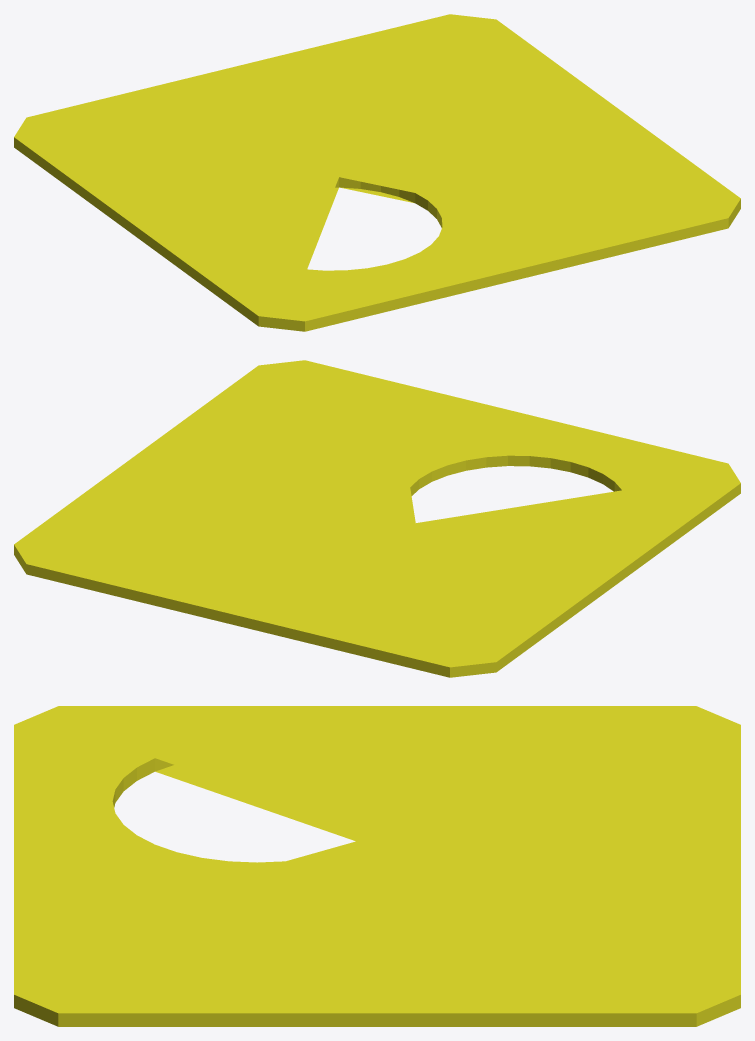
The model's file is cheese-sliced.fbx.
The picture shows the model from 3 angles, top to bottom: view 1: azimuth 30°, elevation 25°; view 2: azimuth 150°, elevation 25°; view 3: azimuth 270°, elevation 25°; orthographic projection. The views are drawn at different scales.
Parts seen in each view (by area): view 1: Plane; view 2: Plane; view 3: Plane.
Part boxes in pixels (<box>): Plane: <box>14,14,740,331</box>; Plane: <box>14,360,740,677</box>; Plane: <box>14,706,740,1026</box>.
Bounding box in the file's own units: 200 × 4.1 × 200.
